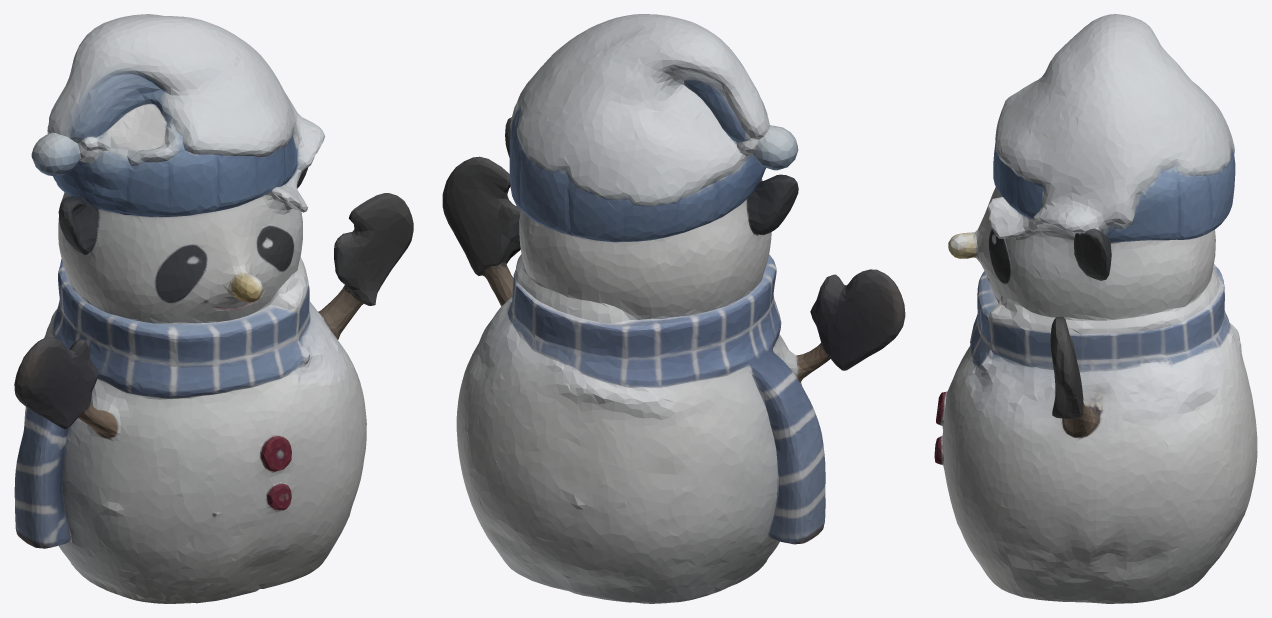
3 views of the same model, side by side, from view 1: azimuth 30°, elevation 25°; view 2: azimuth 150°, elevation 25°; view 3: azimuth 270°, elevation 25° (orthographic). The views are drawn at different scales.
Visible parts, largest first — view 1: world; view 2: world; view 3: world.
Boxes of the visible parts, left/top/right/bottom form: world: left=14, top=14, right=413, bottom=603; world: left=442, top=14, right=905, bottom=603; world: left=934, top=14, right=1257, bottom=603.
Bounding box in the file's own units: 0.833 × 1 × 0.5756.
1 material, 1 textured.
